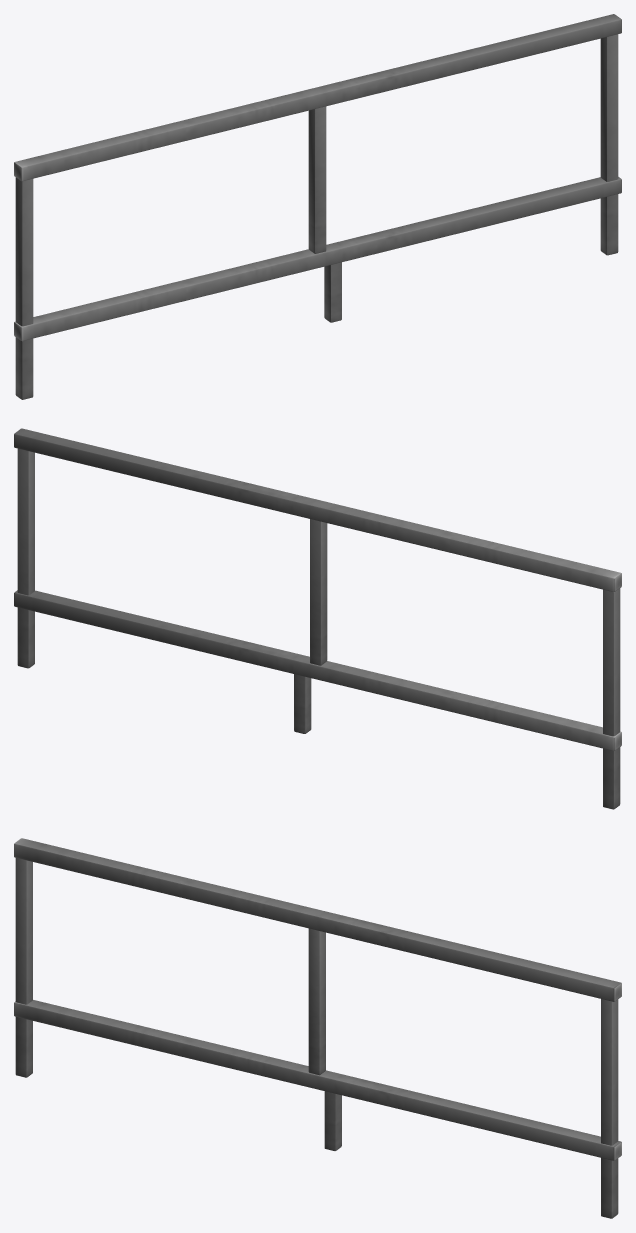
The model's file is ARC1110048.fbx.
3 views of the same model, one above another, from view 1: azimuth 30°, elevation 25°; view 2: azimuth 150°, elevation 25°; view 3: azimuth 330°, elevation 25° (orthographic).
Parts seen in each view (by area): view 1: smARC1110048; view 2: smARC1110048; view 3: smARC1110048.
Boxes of the visible parts, x1=… form: smARC1110048: x1=14, y1=14, x2=621, y2=399; smARC1110048: x1=14, y1=428, x2=621, y2=809; smARC1110048: x1=14, y1=838, x2=621, y2=1218.
Bounding box in the file's own units: 331 × 123 × 9.37.
Materials: 1 (1 with a texture image).
